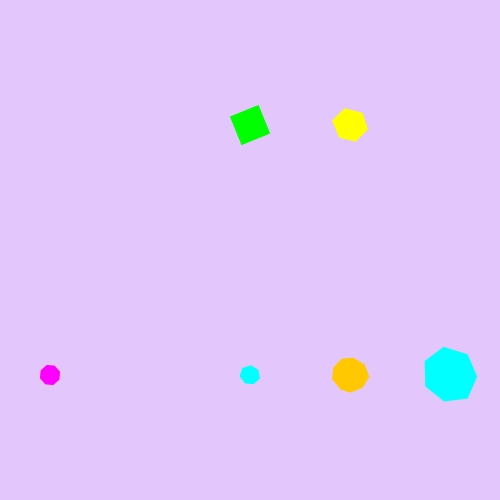heptagon: (419, 345, 481, 405), (236, 361, 265, 389)
hexagon: (328, 107, 372, 144)
nonagon: (328, 354, 372, 397)
octagon: (35, 360, 65, 390)
quadrilateral: (225, 100, 275, 150)
